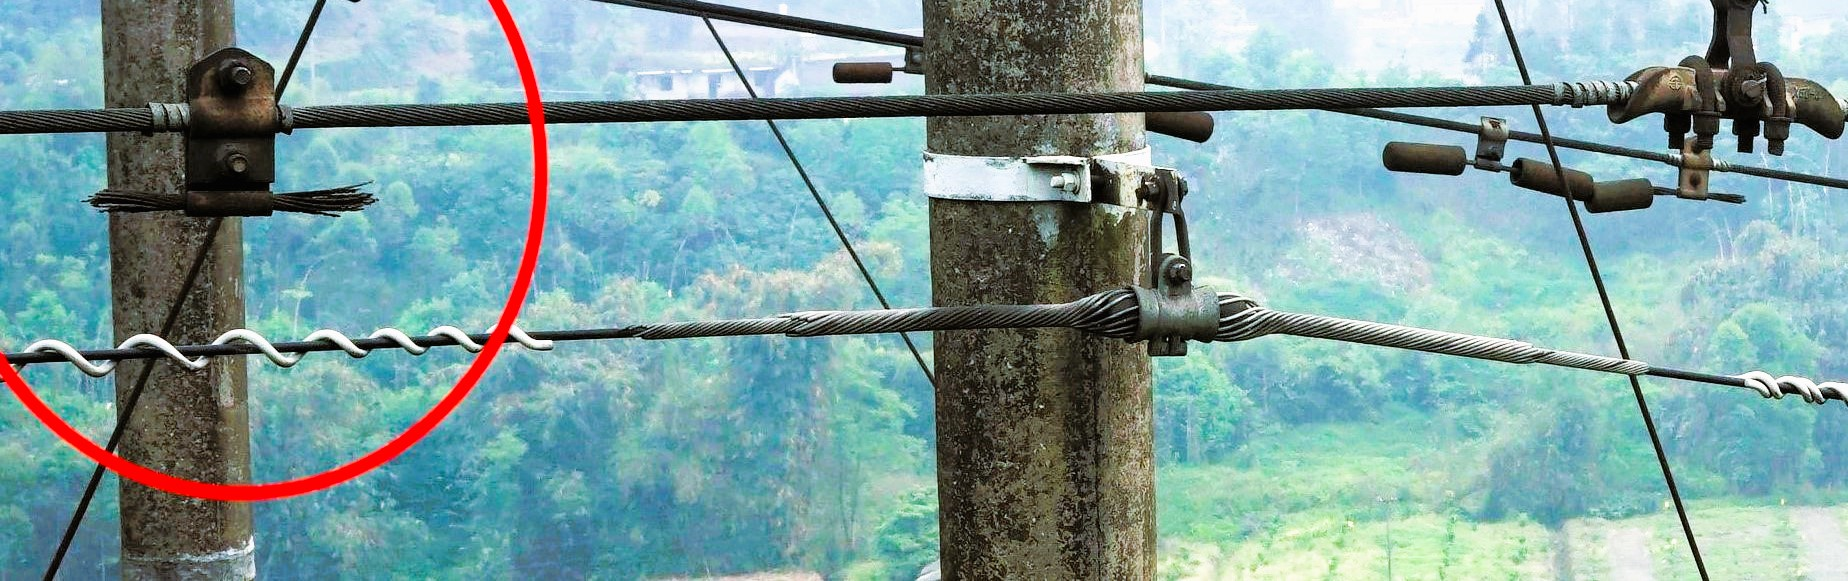Damage of shockproof hammer: (62, 45, 404, 243), (1585, 130, 1765, 240)
